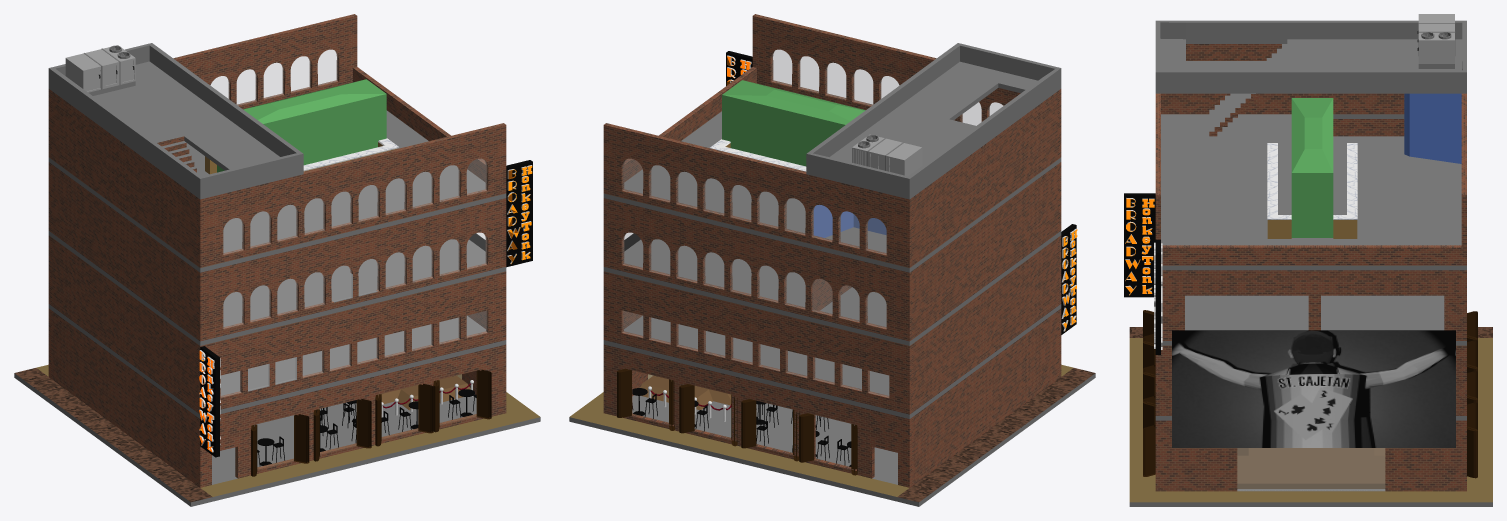
File: Honky Tonk.glb
The picture shows the model from 3 angles, left to right: view 1: azimuth 30°, elevation 25°; view 2: azimuth 150°, elevation 25°; view 3: azimuth 270°, elevation 25°; orthographic projection. The views are drawn at different scales.
Parts seen in each view (by area): view 1: Walls.001, Window.003, Walls, Floor.005, Floor.001, Floor.004, Floor.003, 4th Floor.001, Floor.002, Floor, Shutters, Sign (+5 smaller); view 2: Walls.001, Walls, Window.003, Floor.005, Floor.001, Floor.004, Floor.003, 4th Floor.001, Floor.002, Floor, Shutters, RTU HP (+6 smaller); view 3: Massive Poster, Floor.004, Walls.001, Floor.005, Floor.001, Floor.003, Walls, Window.004, Cube.001, 4th Floor.001, Shutters, 4th Floor (+6 smaller).
Part boxes in pixels (x1,y1,x2,y2): Walls.001: (48,14,506,413); Window.003: (210,50,486,397); Walls: (48,308,506,487); Floor.005: (48,43,303,199); Floor.001: (14,364,540,506); Floor.004: (48,110,506,272); Floor.003: (48,231,506,345); 4th Floor.001: (217,79,386,172); Floor.002: (48,304,506,418); Floor: (212,396,476,484); Shutters: (251,369,491,476); Sign: (506,160,532,267); Walls.001: (603,14,1061,414); Walls: (603,308,1061,487); Window.003: (622,50,1002,397); Floor.005: (806,43,1061,199); Floor.001: (569,364,1095,506); Floor.004: (603,111,1061,272); Floor.003: (603,231,1061,345); 4th Floor.001: (722,80,865,166); Floor.002: (603,304,1061,418); Floor: (632,395,897,484); Shutters: (617,368,857,475); RTU HP: (852,134,922,175); Massive Poster: (1172,330,1455,447); Floor.004: (1161,114,1466,270); Walls.001: (1155,44,1466,415); Floor.005: (1155,20,1466,93); Floor.001: (1129,327,1492,506); Floor.003: (1162,295,1466,345); Walls: (1155,420,1466,491); Window.004: (1237,448,1384,490); Cube.001: (1237,448,1385,488); 4th Floor.001: (1291,98,1333,237); Shutters: (1143,310,1477,478); 4th Floor: (1404,93,1461,163).
Size of what is drawn, in the model's own units: 24.71 by 21.8 by 21.66.
Materials: 29 (4 with a texture image).
